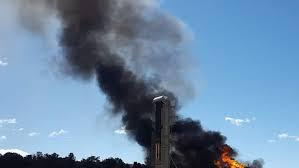Smoke: (62, 3, 232, 158)
